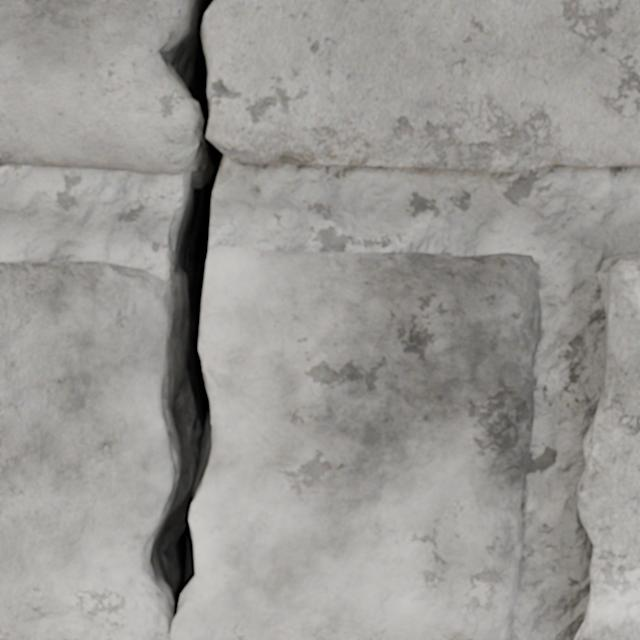broken_brick: (0, 246, 541, 639), (205, 0, 639, 172), (0, 0, 203, 175)
crack: (131, 0, 224, 628), (575, 252, 639, 639)
